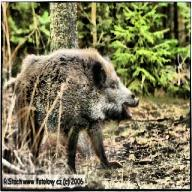boar: (2, 46, 139, 172)
